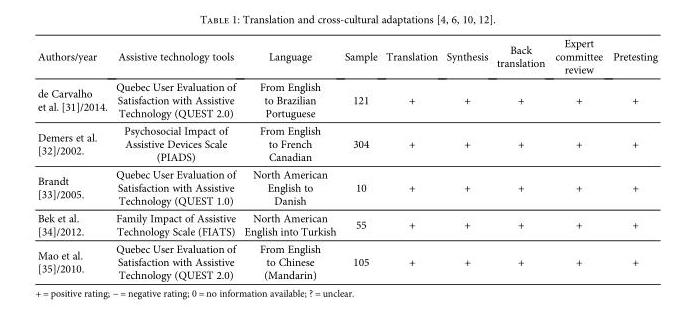table: (36, 36, 656, 280)
table column: (111, 36, 239, 280), (239, 36, 339, 280), (36, 36, 111, 280), (380, 36, 441, 280), (491, 36, 549, 280), (549, 36, 607, 280), (441, 36, 491, 280), (607, 36, 656, 280), (339, 36, 380, 280)
table column header: (36, 36, 656, 77)
table row: (36, 77, 656, 121), (36, 121, 656, 165), (36, 165, 656, 209), (36, 36, 656, 77), (36, 239, 656, 280), (36, 209, 656, 239)
